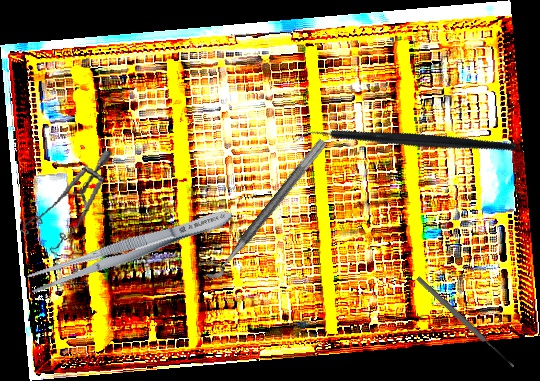Chopper: (291, 59, 519, 228)
Dressing Forceps: (24, 201, 237, 298)
Fixation Ring: (195, 128, 329, 284)
Speculum: (15, 137, 114, 263)
Surgical Spoon: (415, 275, 516, 370)
